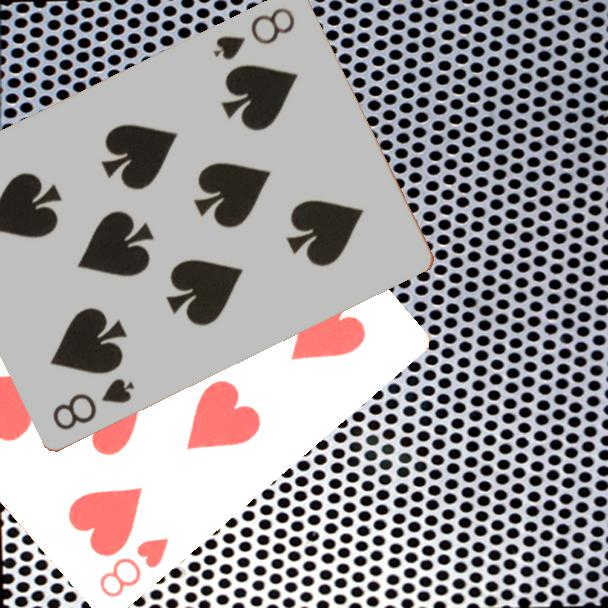h08: (96, 533, 172, 600)
s08: (209, 3, 298, 62), (49, 374, 138, 433)
